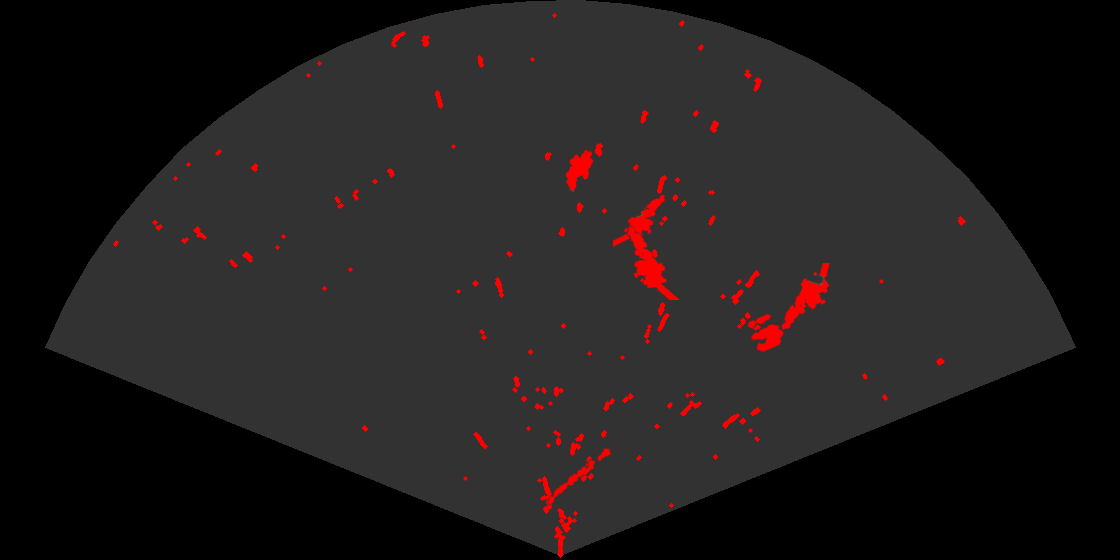AUV: (564, 148, 595, 193)
ball: (746, 312, 785, 354)
chain: (546, 442, 617, 506)
frogman: (626, 225, 681, 300), (780, 263, 831, 332), (613, 193, 667, 248)
